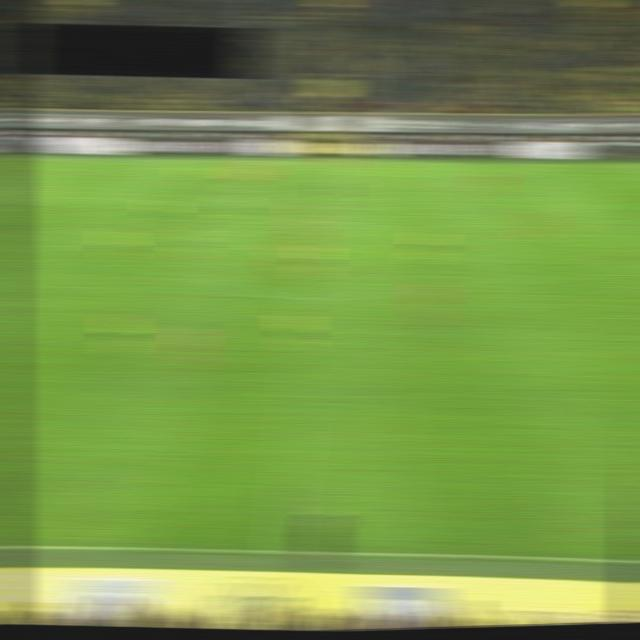bigarea_top_inner: (0, 179, 22, 193)
halfcircle_bottom: (294, 292, 326, 305)
halfcircle_top: (302, 213, 333, 227)
midline_bottom_intersection: (264, 542, 300, 560)
midline_top_intersection: (310, 154, 340, 167)
